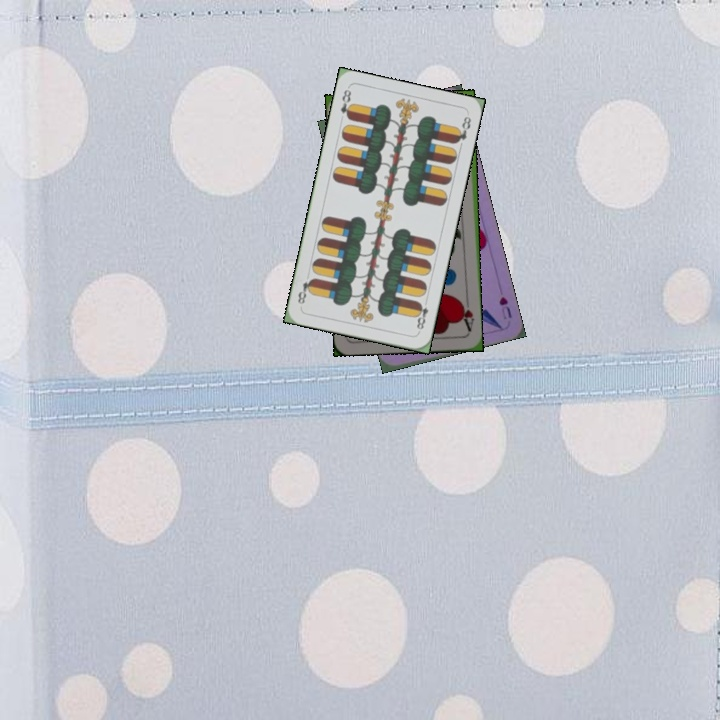E8: (412, 295, 431, 335), (336, 85, 355, 122)
HA: (456, 294, 476, 334)
HU: (495, 293, 514, 322)
